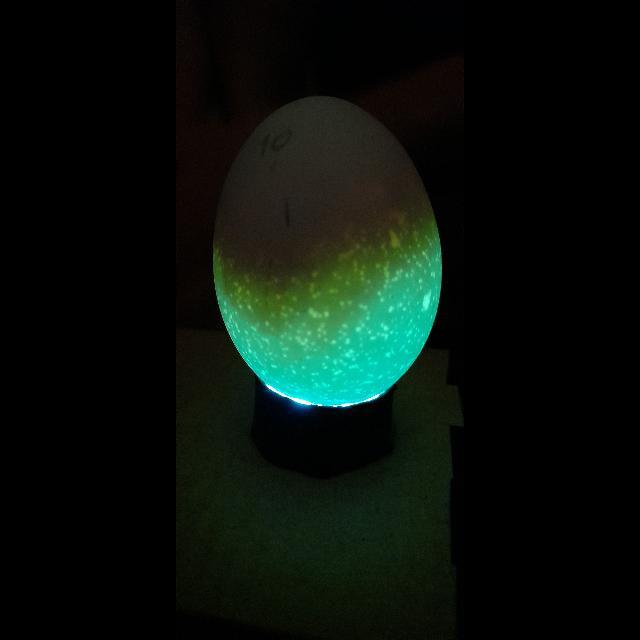Infertile: (214, 95, 448, 408)
